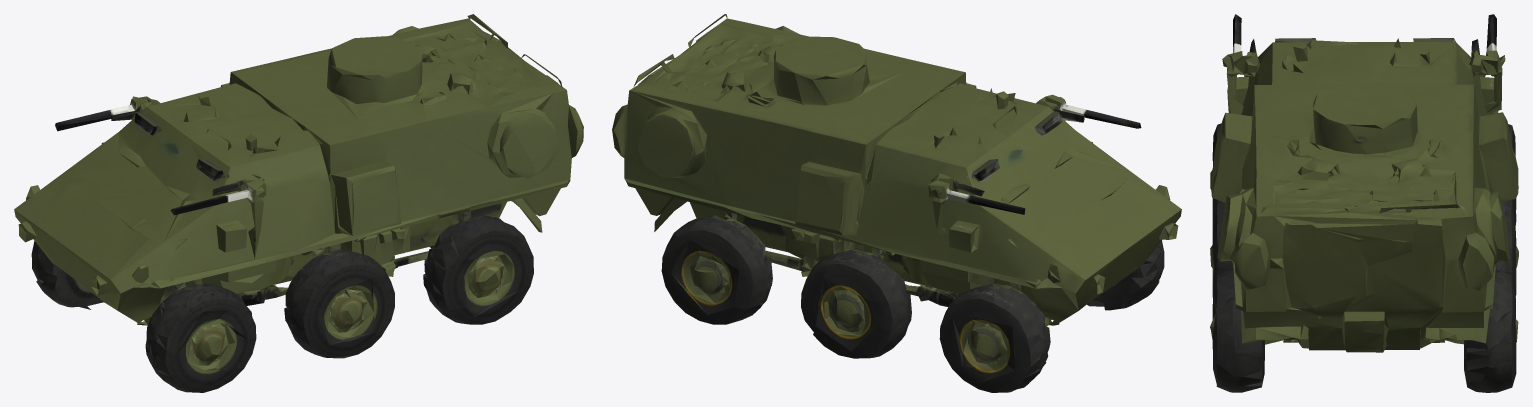
3 views of the same model, side by side, from view 1: azimuth 30°, elevation 25°; view 2: azimuth 150°, elevation 25°; view 3: azimuth 270°, elevation 25° (orthographic). The views are drawn at different scales.
Parts seen in each view (by area): view 1: output_unwrapped; view 2: output_unwrapped; view 3: output_unwrapped.
Boxes of the visible parts, x1,y1,x2,y2 form: output_unwrapped: (14,14,583,392); output_unwrapped: (612,14,1181,392); output_unwrapped: (1210,14,1518,392).
Size of the model in its own units: 1.9 by 0.9107 by 0.9799.
1 material, 1 textured.
